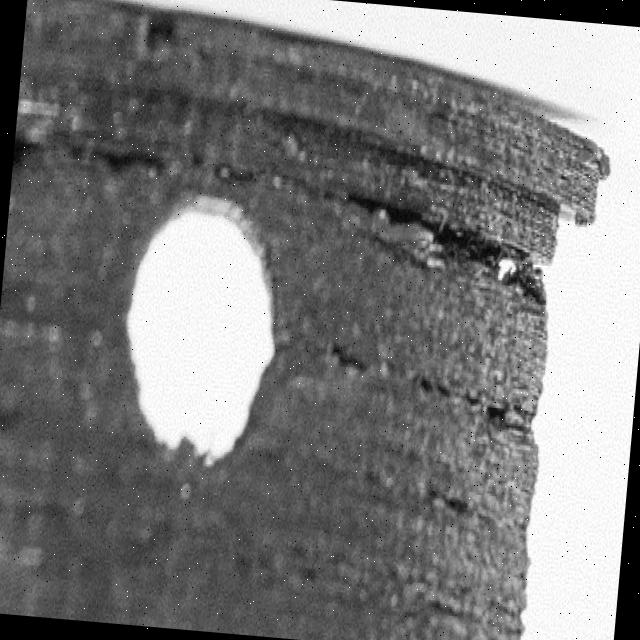cracks: (372, 172, 579, 314), (376, 328, 553, 462)
